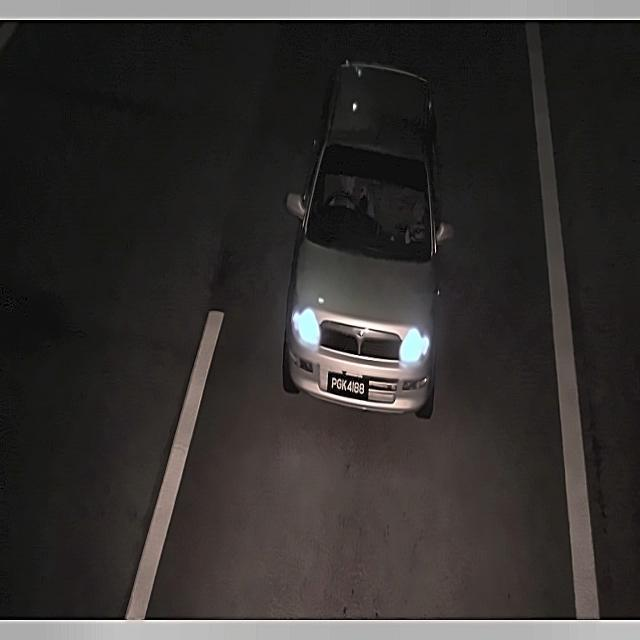car: (329, 362, 367, 402)
